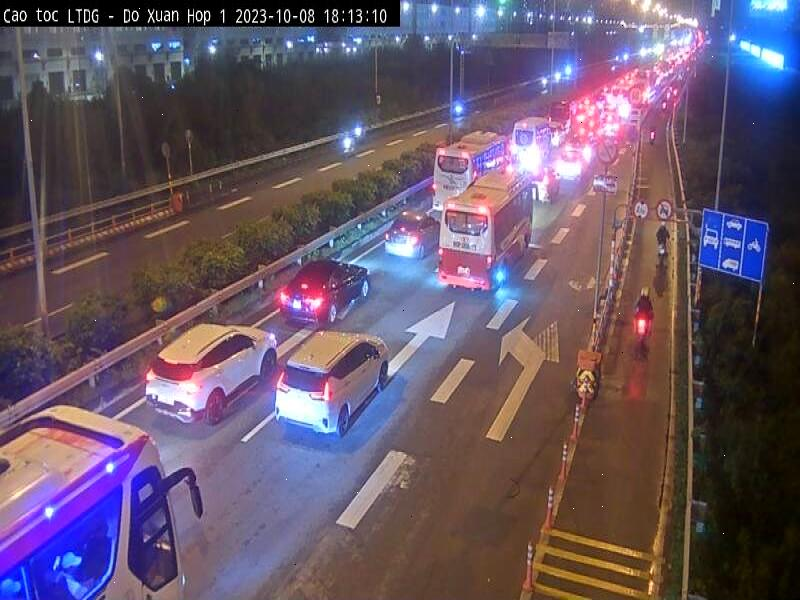bus: (1, 406, 224, 599), (436, 135, 544, 295), (428, 122, 513, 200)
car: (144, 323, 280, 435), (278, 329, 394, 439), (274, 258, 374, 332), (383, 212, 439, 260)
